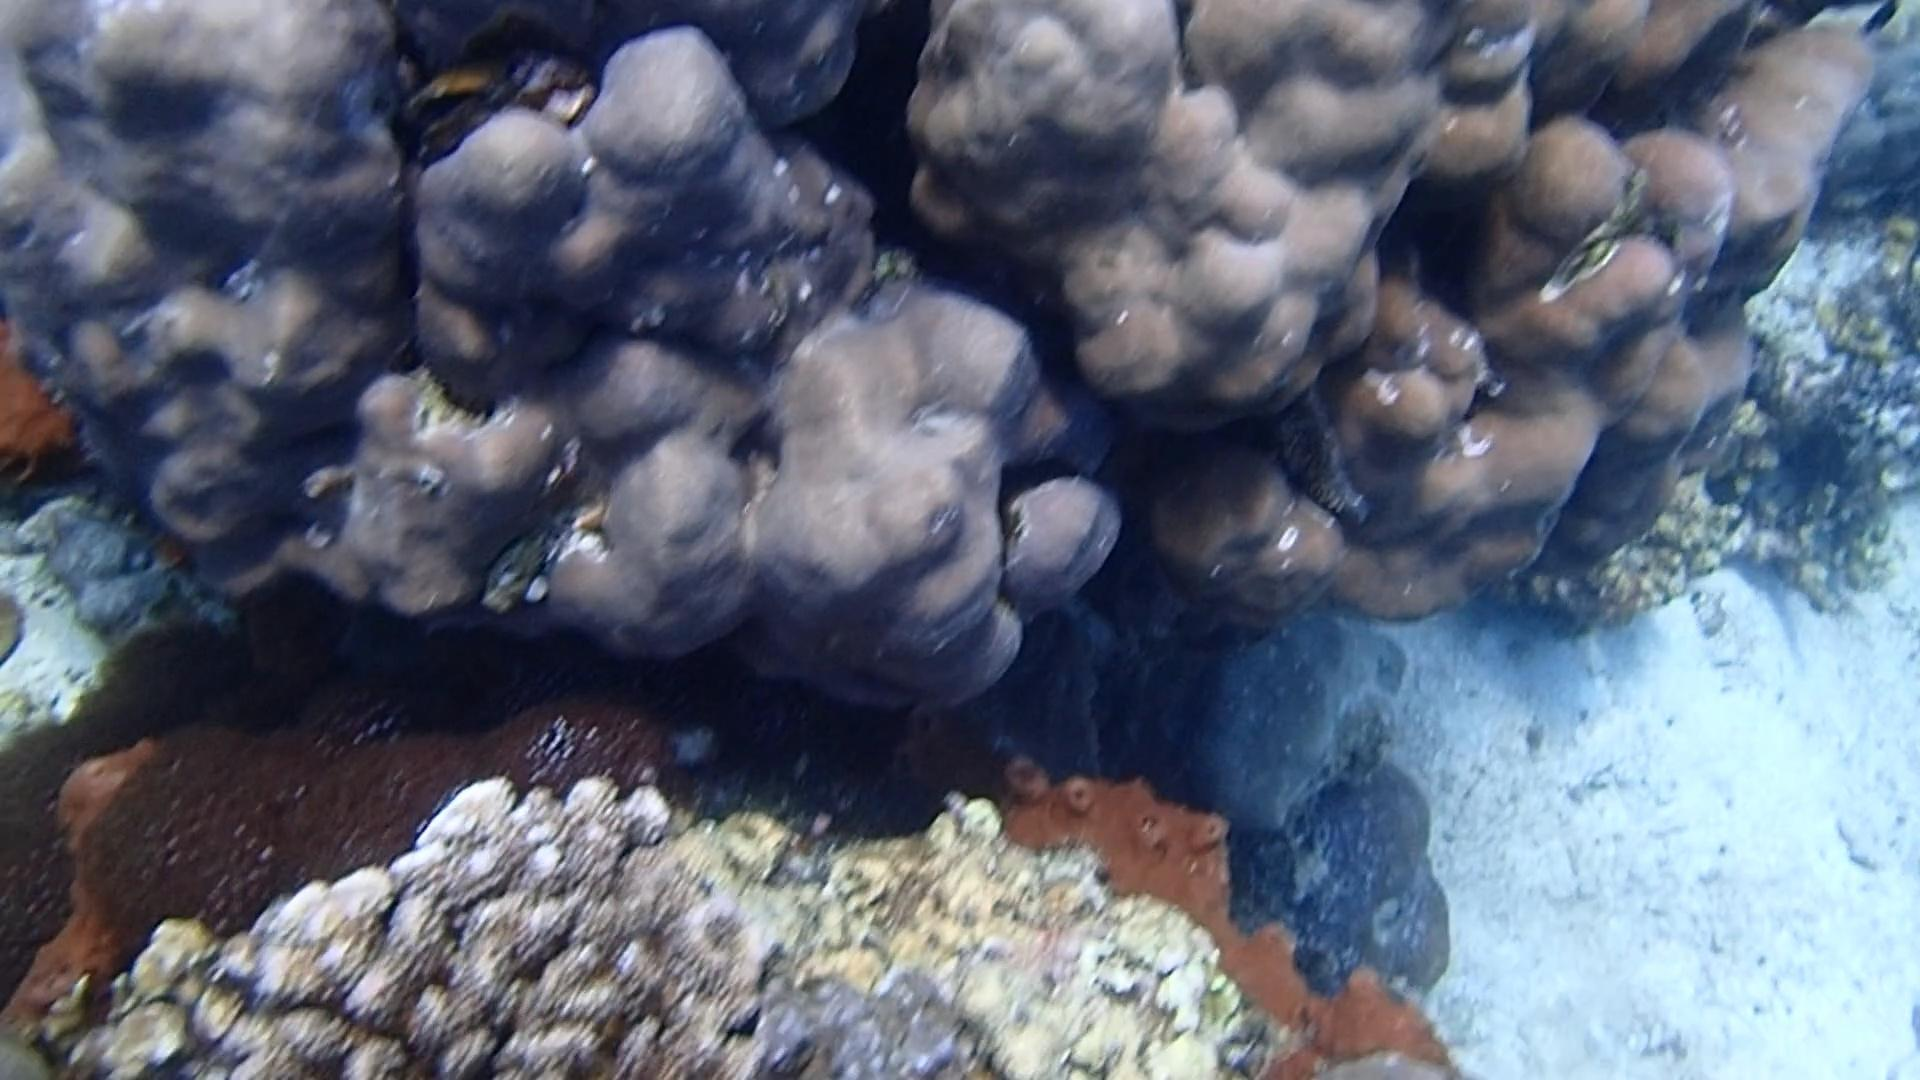Dark Fish: (1847, 0, 1913, 40)
